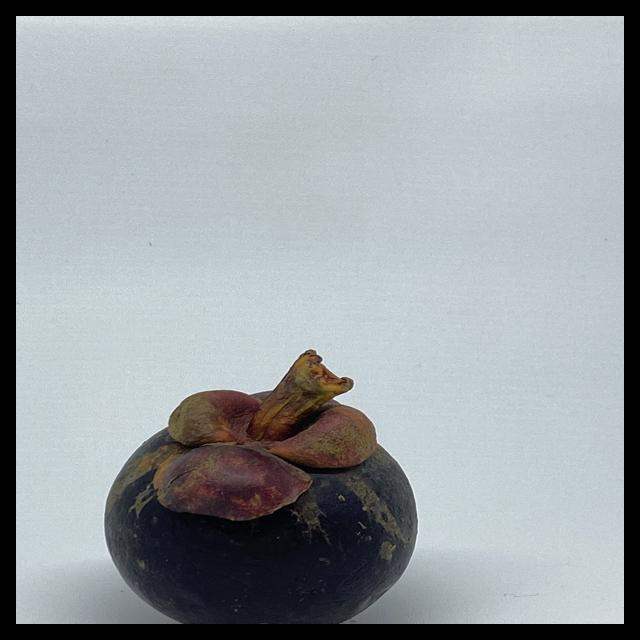mangosteen: (103, 358, 434, 624)
